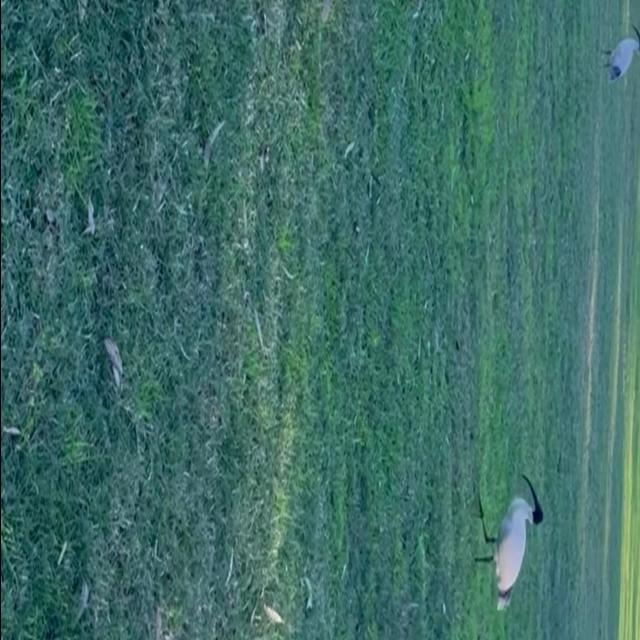Birds-Ibis: (468, 467, 546, 619), (600, 15, 640, 94)
